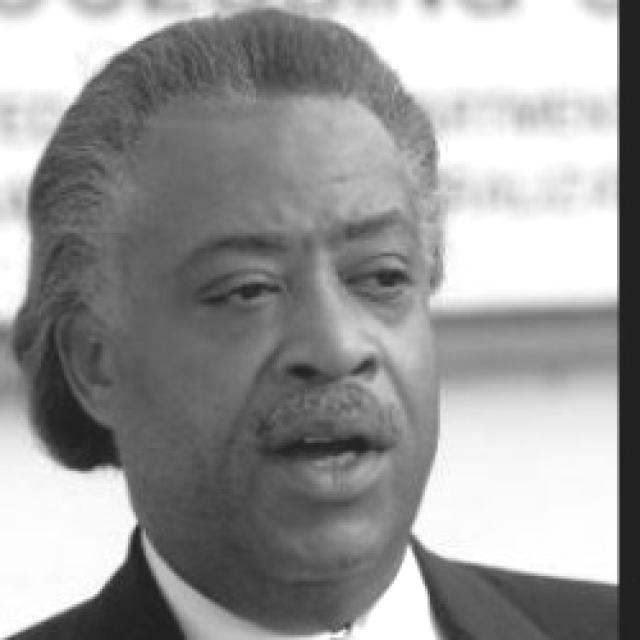real: (108, 102, 441, 582), (198, 246, 425, 317)
